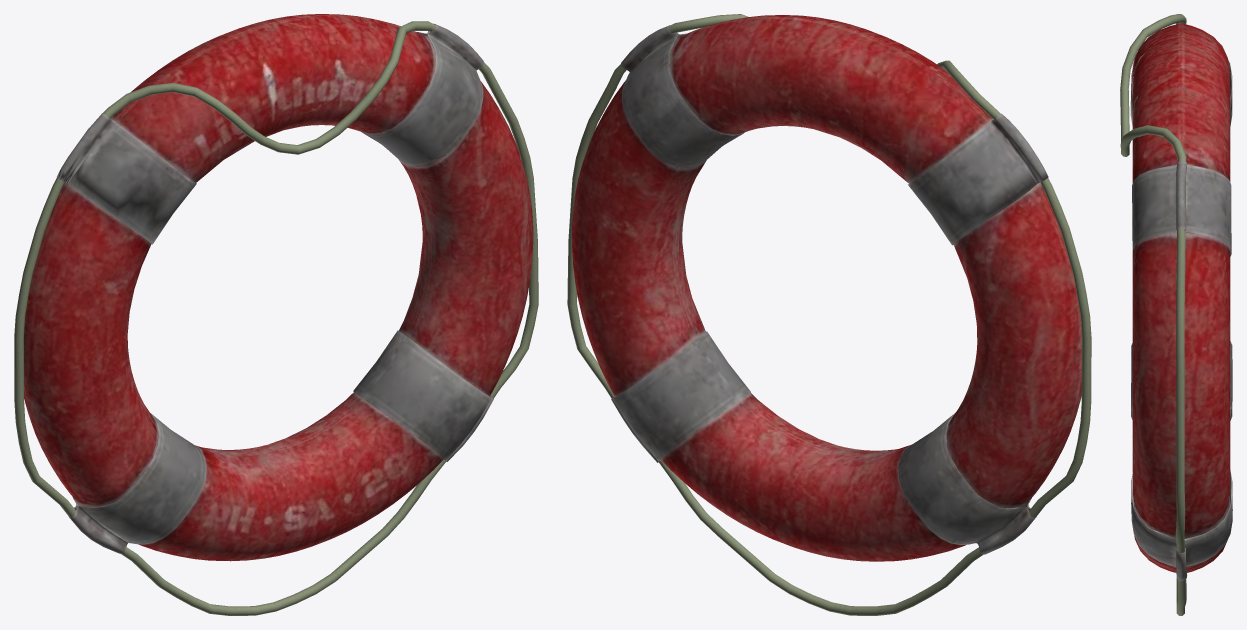
The model's file is lifebuoy.glb.
3 views of the same model, side by side, from view 1: azimuth 30°, elevation 25°; view 2: azimuth 150°, elevation 25°; view 3: azimuth 270°, elevation 25° (orthographic). The views are drawn at different scales.
Visible parts, largest first — view 1: lifebuoy; view 2: lifebuoy; view 3: lifebuoy.
Boxes of the visible parts, <box> form: lifebuoy: <box>14,14,538,615</box>; lifebuoy: <box>567,14,1091,615</box>; lifebuoy: <box>1120,14,1232,615</box>.
Bounding box in the file's own units: 0.783 × 0.8412 × 0.1551.
Materials: 1 (1 with a texture image).
